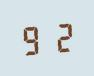nine: (19, 22, 46, 55)
two: (47, 20, 74, 53)
